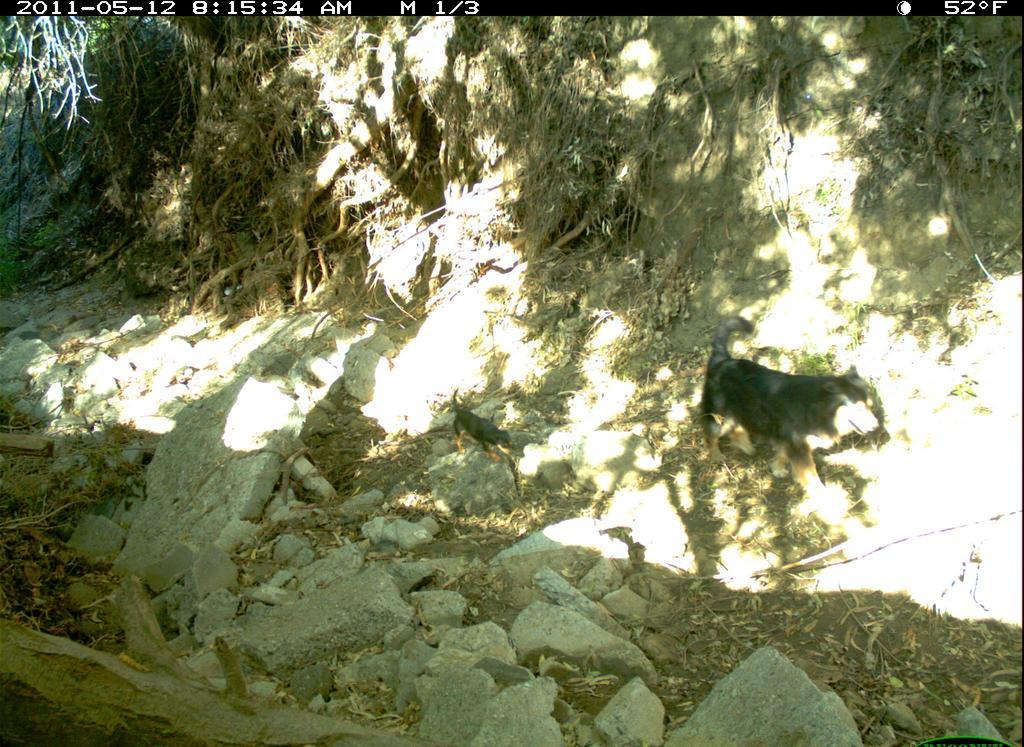dog: (683, 306, 902, 545)
